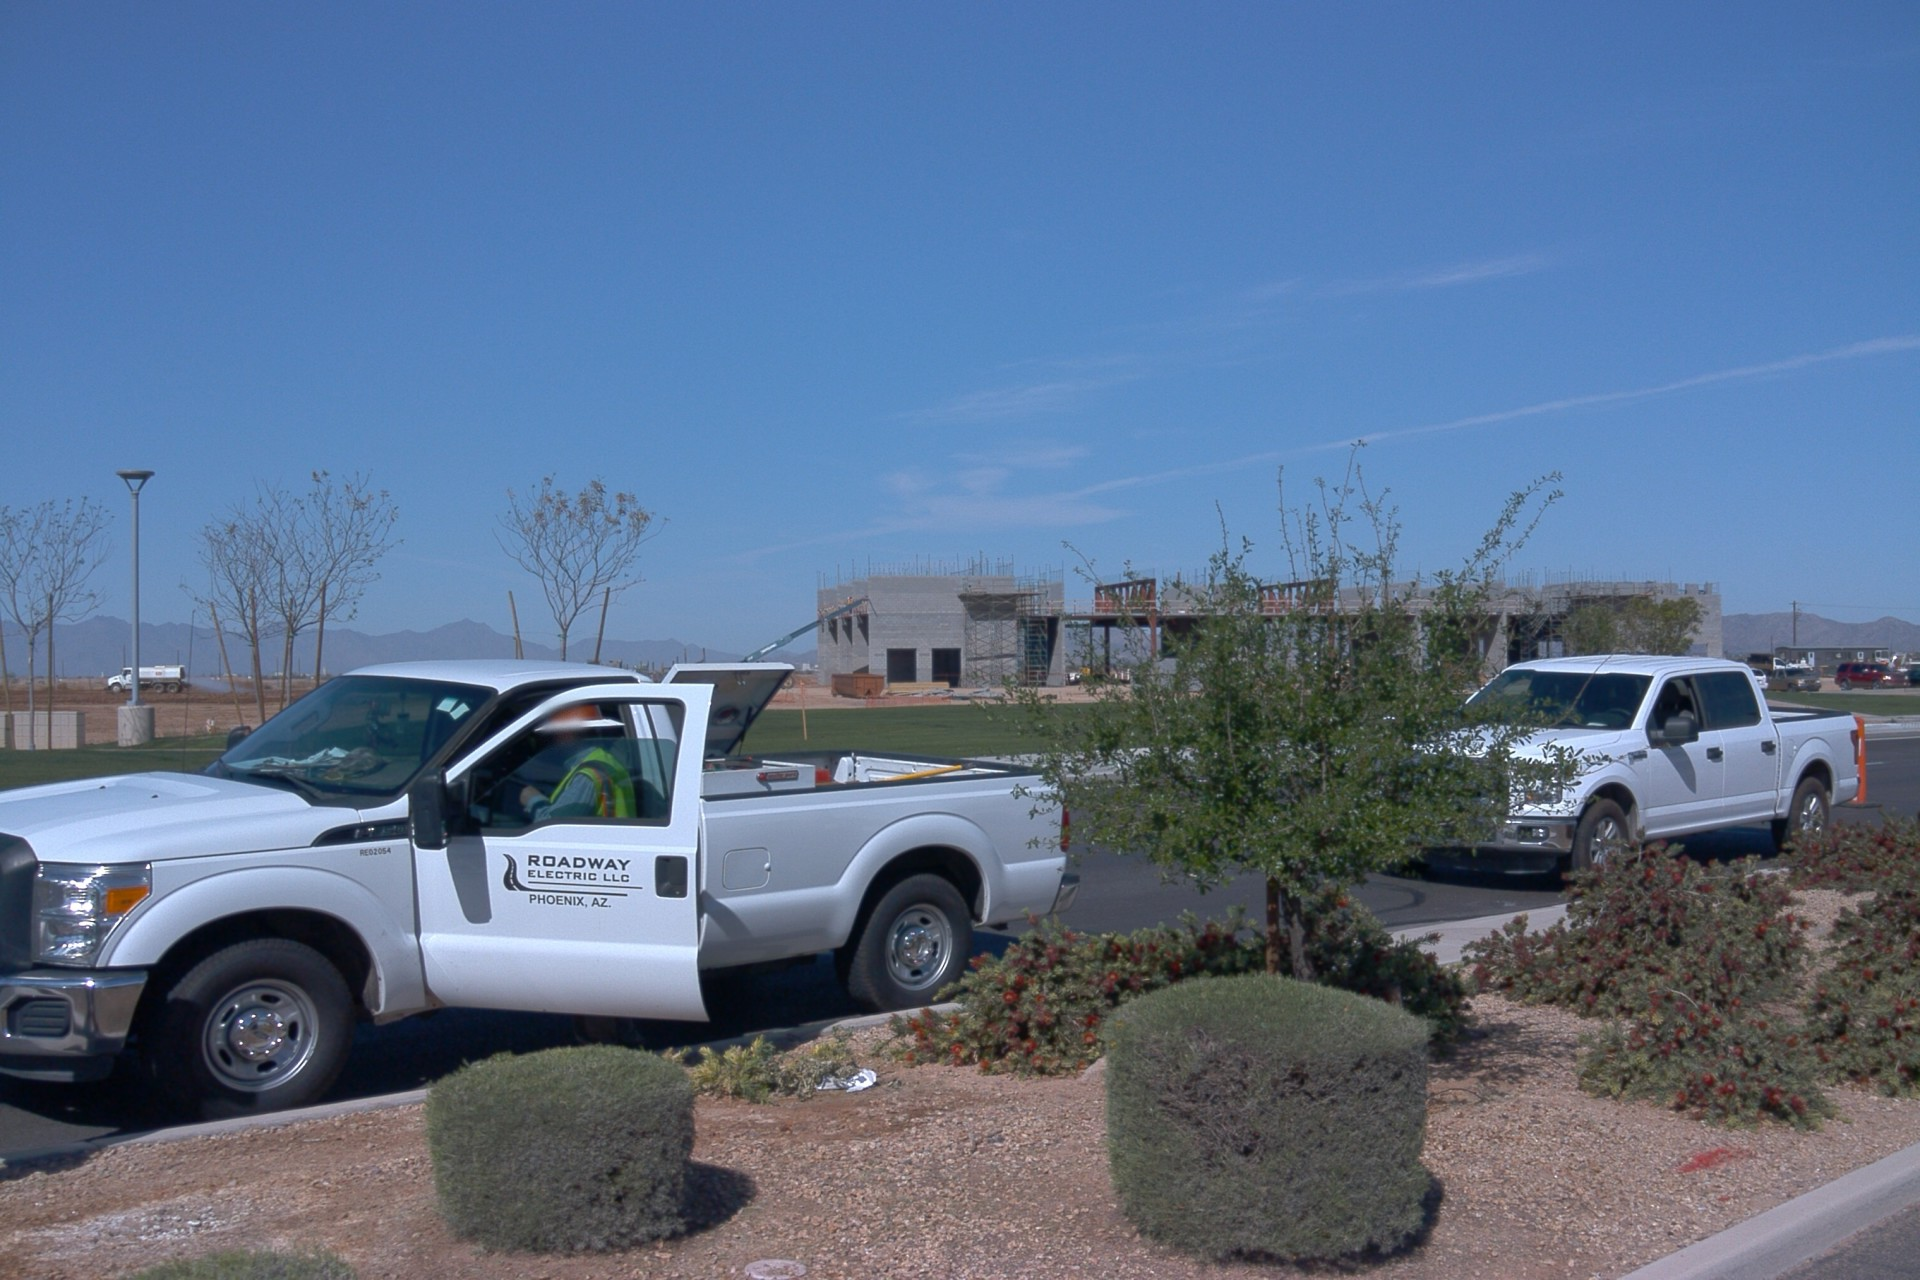TYPE_PEDESTRIAN: (534, 702, 657, 1050)
TYPE_VEHICLE: (0, 655, 1084, 1127), (1384, 654, 1866, 889), (741, 596, 876, 691), (104, 662, 193, 705), (1831, 664, 1909, 698), (1766, 670, 1827, 694), (1744, 655, 1800, 673), (1750, 671, 1768, 693)
